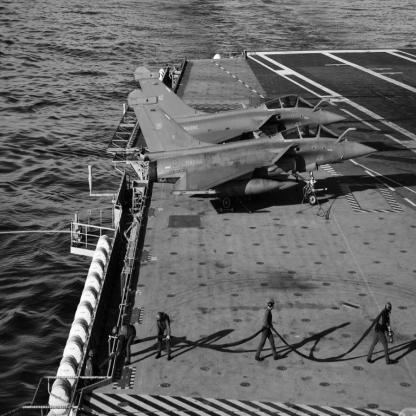Rafale: (127, 89, 380, 212), (134, 66, 351, 145)
